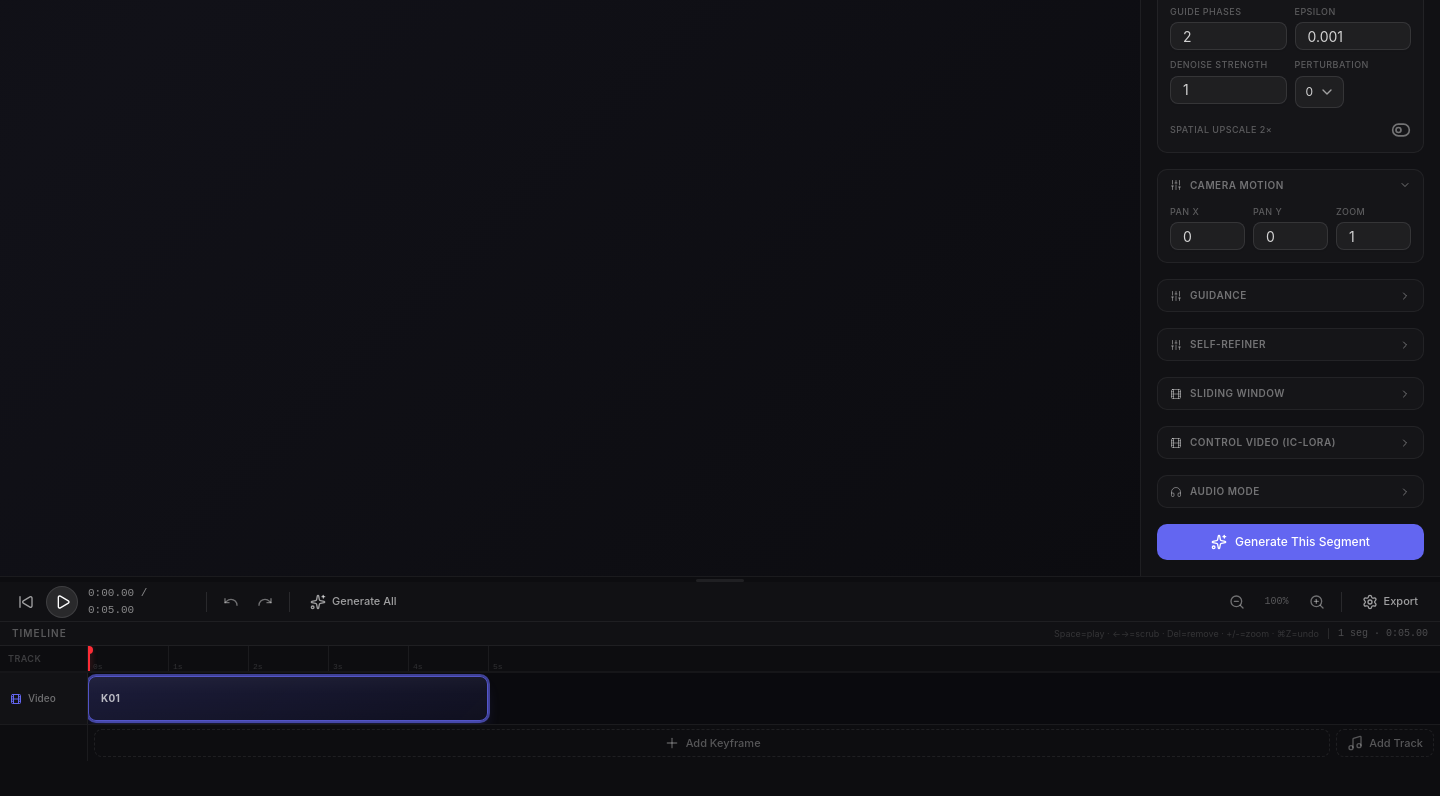
Test: VideoEditor — zoom › zoom out decreases pixels per second
This screenshot has width=1440, height=796.
(page scrolled)
Click the button with class "lucide-zoom-out".
click(1237, 602)  # box [1223,588,1251,616]
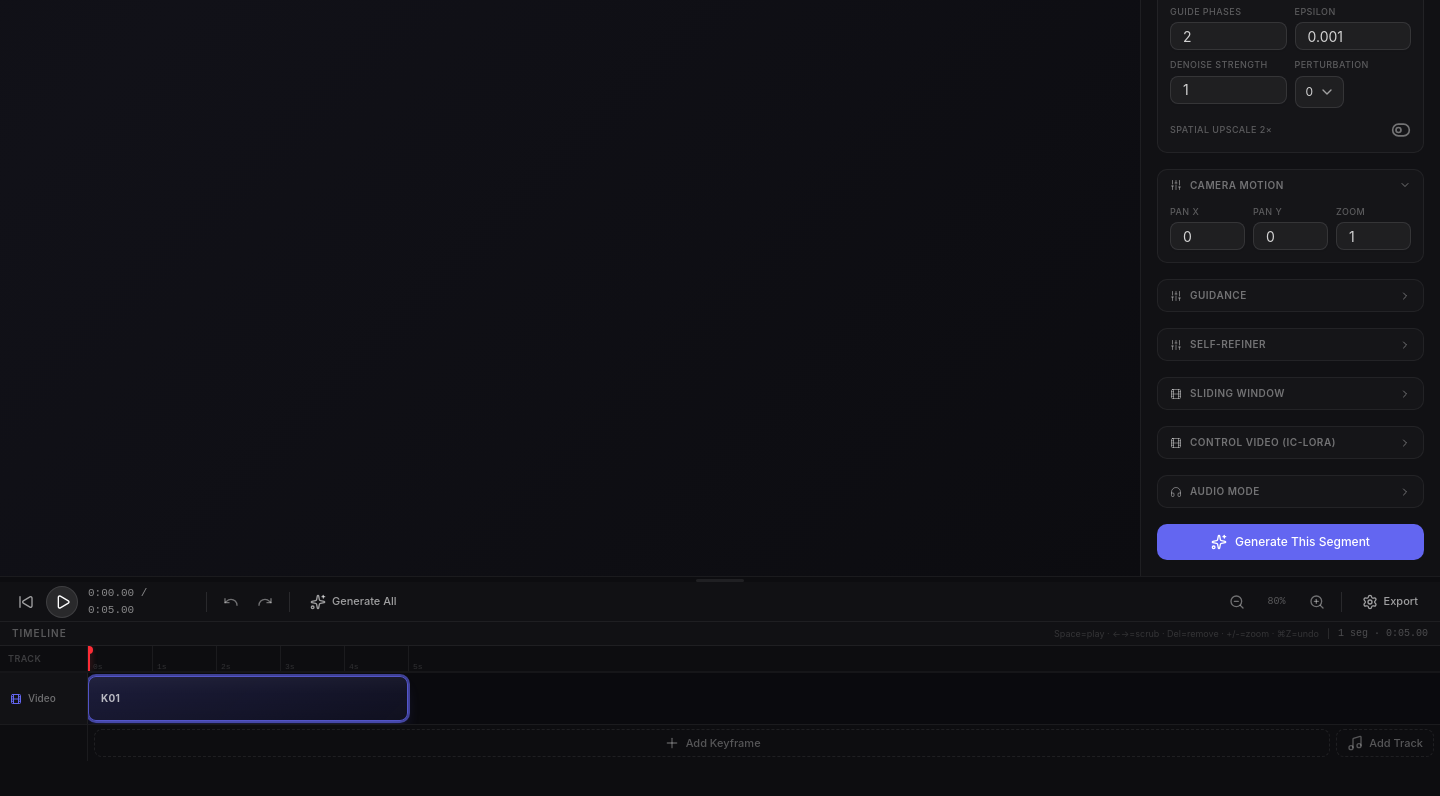
Expected: the text "80%" is shown, [1268,596,1286,607]
